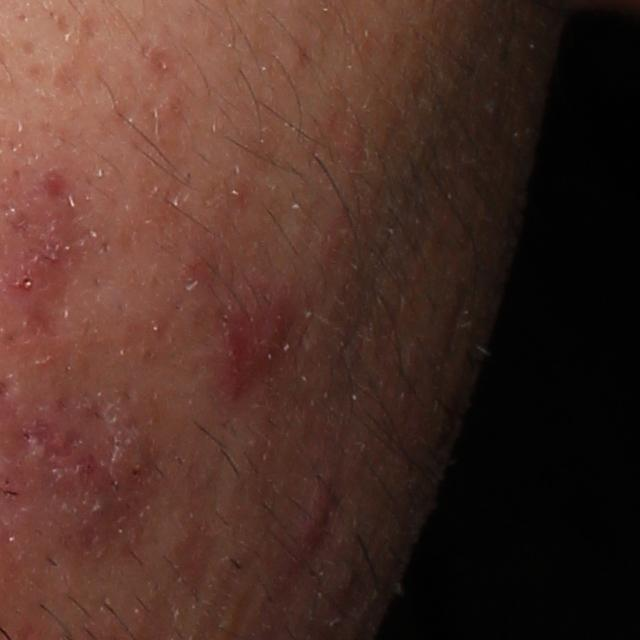atrophic_scar: (51, 14, 107, 102)
nodule: (14, 374, 154, 559)
papule: (223, 287, 288, 401), (300, 462, 341, 544)
